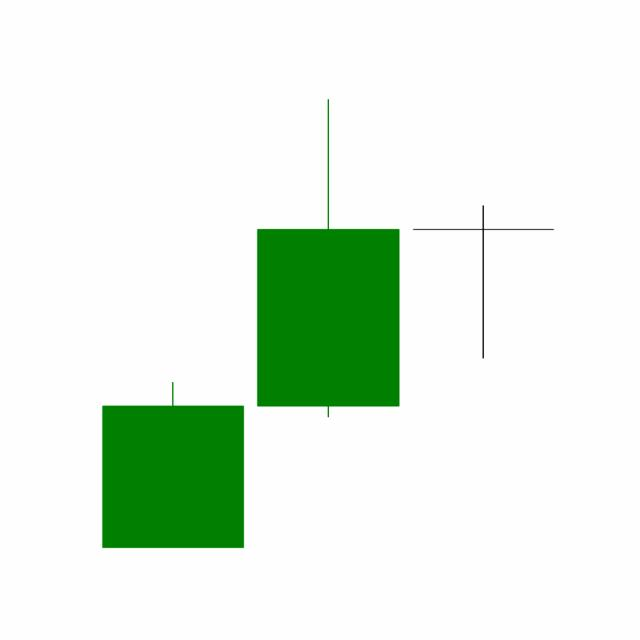Dragonfly Doji: (405, 202, 561, 360)
